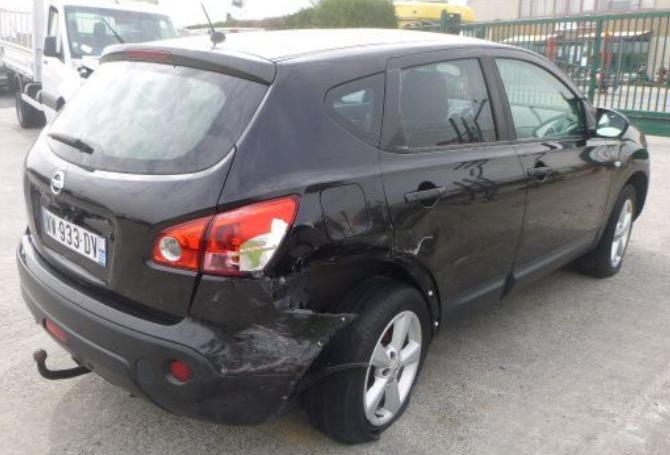Back-bumper: (15, 232, 354, 423)
Back-door: (380, 46, 528, 301)
Back-wheel: (303, 273, 433, 446)
Back-window: (400, 58, 497, 146), (323, 71, 384, 149)
Back-windshield: (43, 61, 270, 173)
Fender: (595, 123, 650, 250)
Front-door: (485, 46, 613, 269)
Front-wheel: (576, 183, 638, 279)
Front-window: (498, 57, 585, 140)
License-plate: (41, 207, 107, 266)
Mirror: (595, 108, 632, 140)
Quarter-panel: (219, 150, 440, 336)
Rocker-panel: (441, 227, 601, 330)
Roof: (143, 28, 501, 62)
Tail-light: (202, 192, 301, 278), (148, 212, 215, 274)
Trunk: (23, 131, 236, 325)
